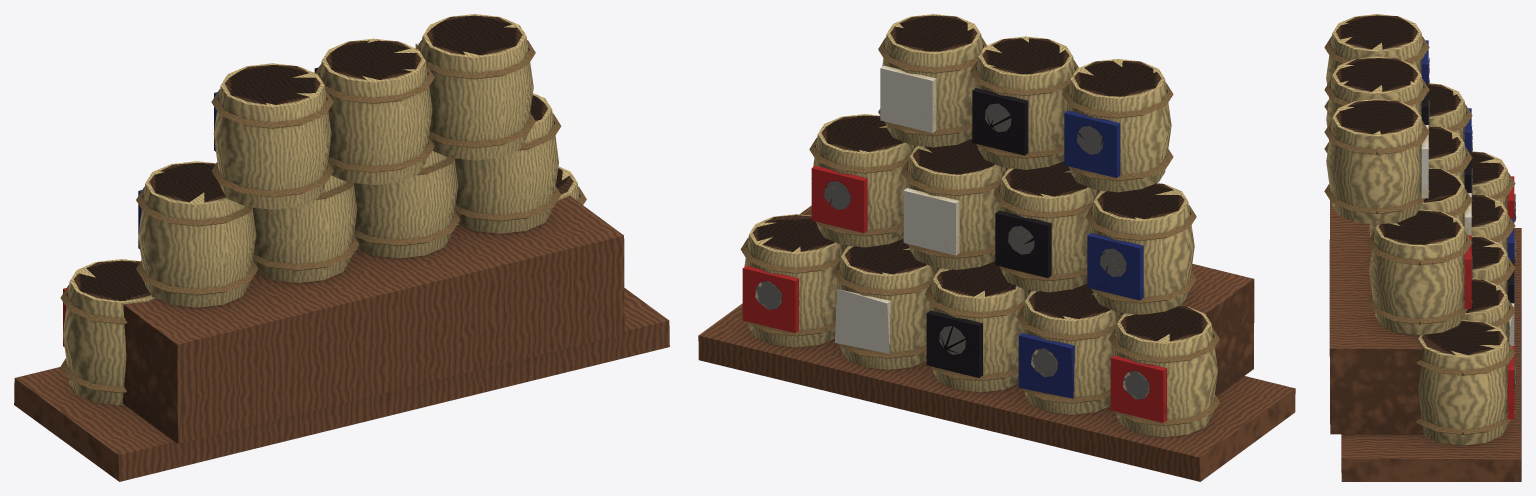
Rendered from sake_barrels.fbx.
3 renders of one model, left to right at view 1: azimuth 30°, elevation 25°; view 2: azimuth 150°, elevation 25°; view 3: azimuth 270°, elevation 25°, orthographic. The views are drawn at different scales.
Visible parts, largest first — view 1: sake_barrels; view 2: sake_barrels; view 3: sake_barrels.
Part boxes in pixels (x1=…): sake_barrels: x1=14, y1=14, x2=669, y2=481; sake_barrels: x1=698, y1=14, x2=1295, y2=481; sake_barrels: x1=1324, y1=14, x2=1521, y2=481.
Size of the model in its own units: 955 by 565 by 344.
Materials: 1 (1 with a texture image).
